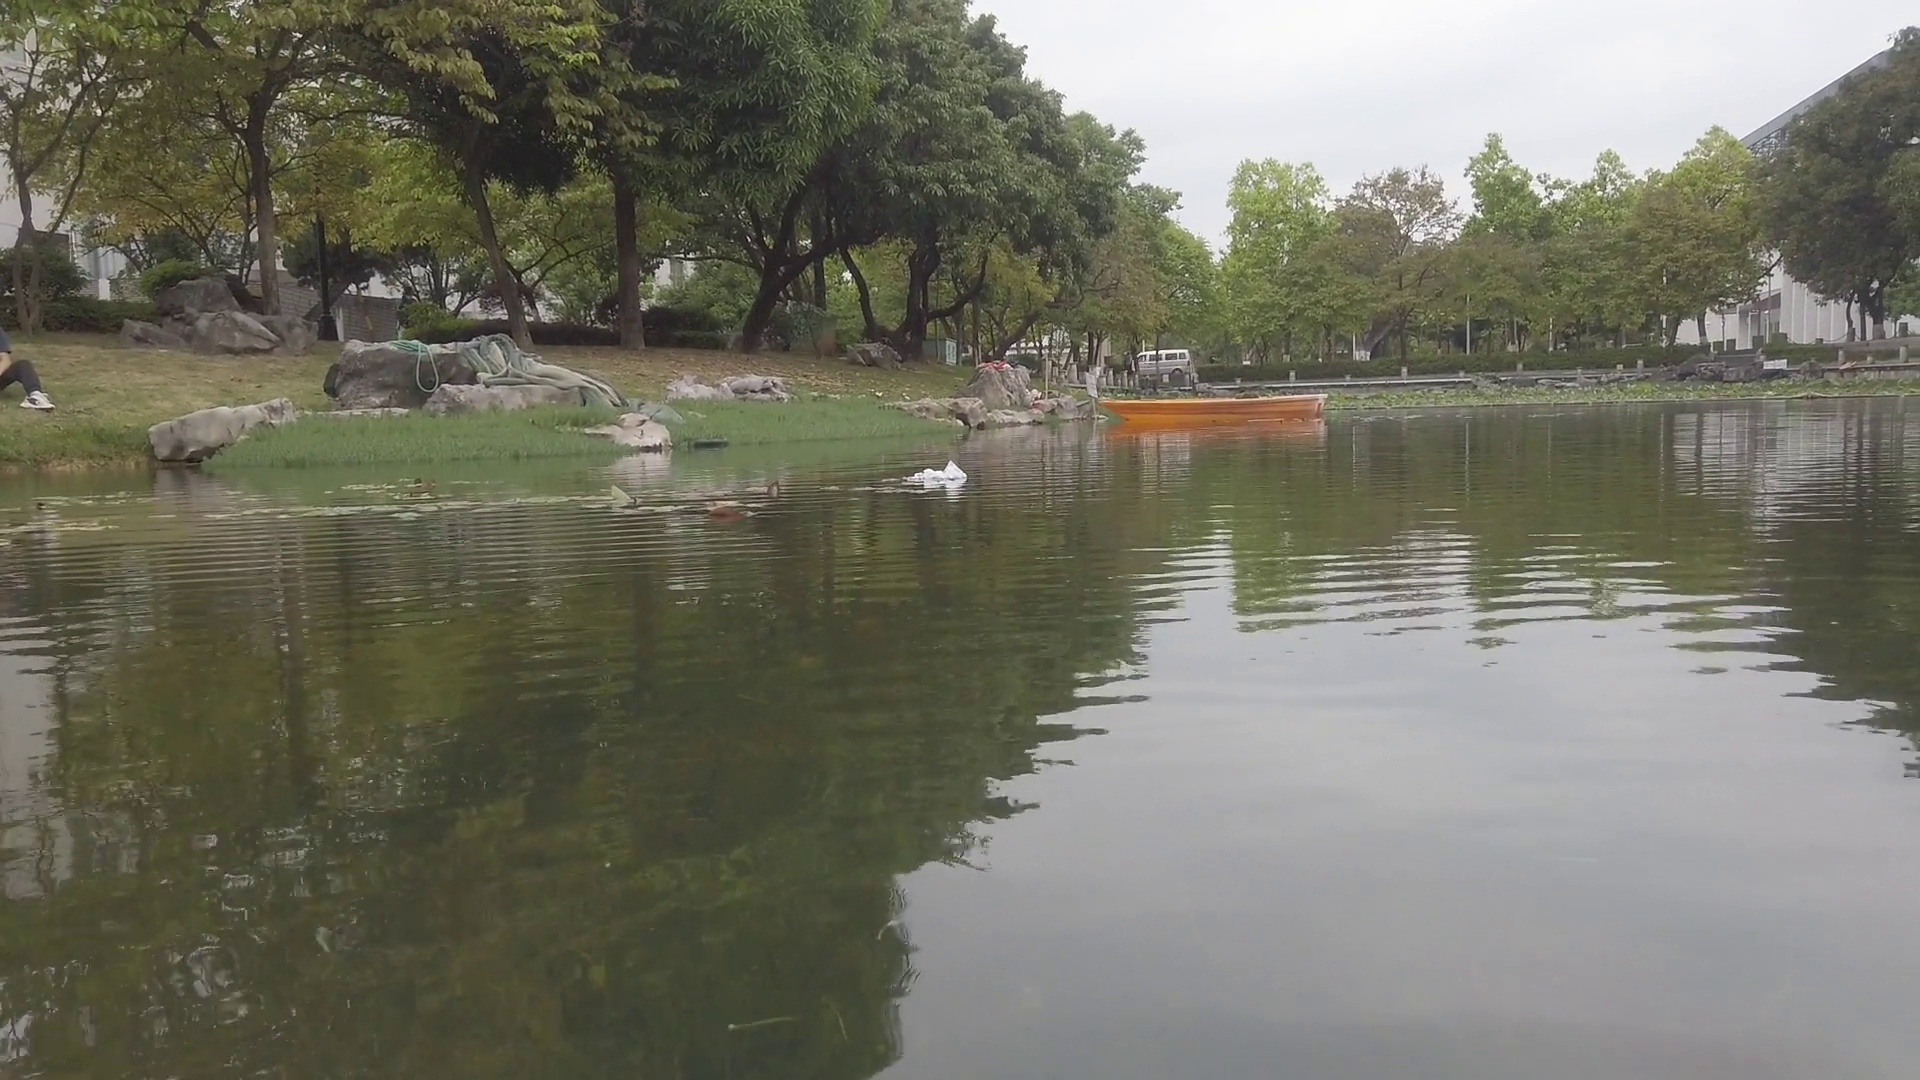plastic: (919, 462, 969, 487)
